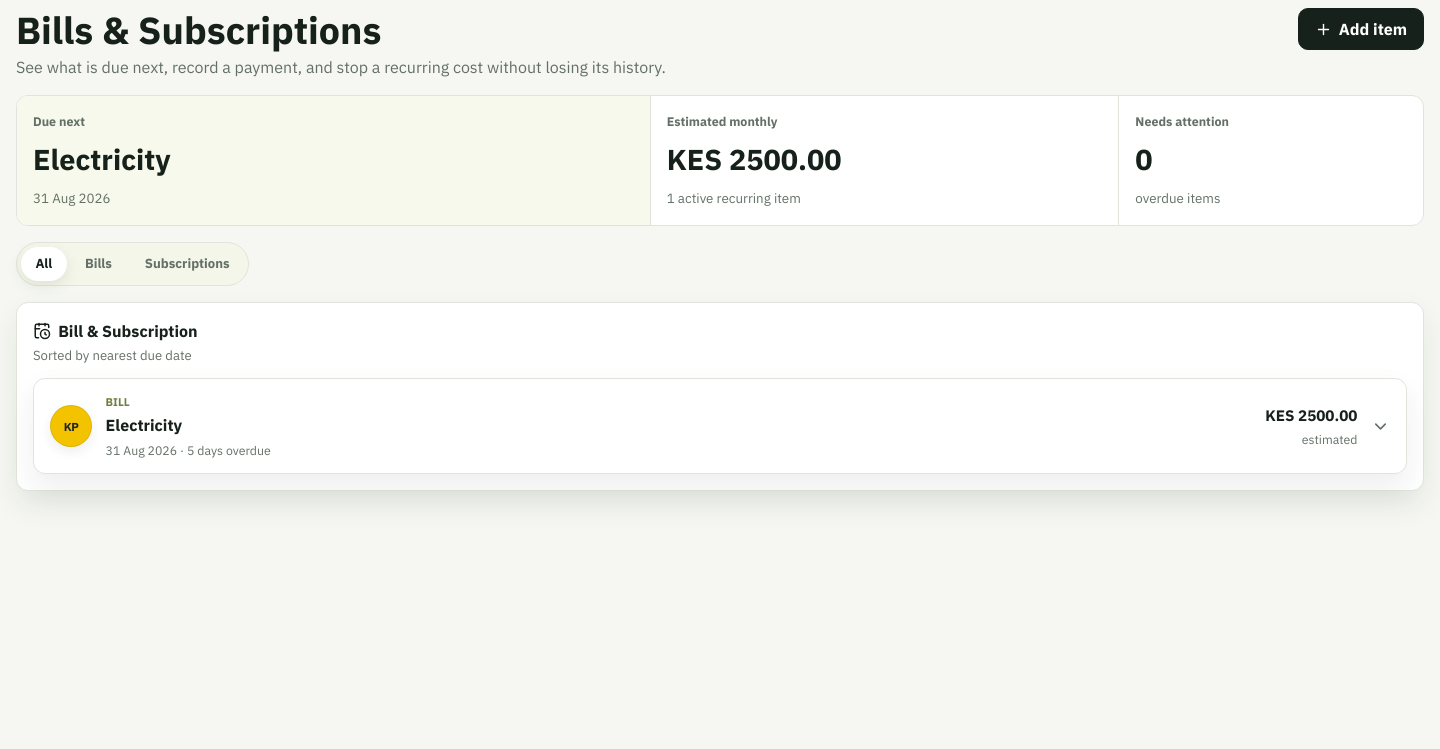
Test: Bills and subscriptions › stops recurrence without deleting the card
Click the button "bill Electricity 31 Aug 2026" at (71, 426), box [34,379,1406,473]
(page scrolled)
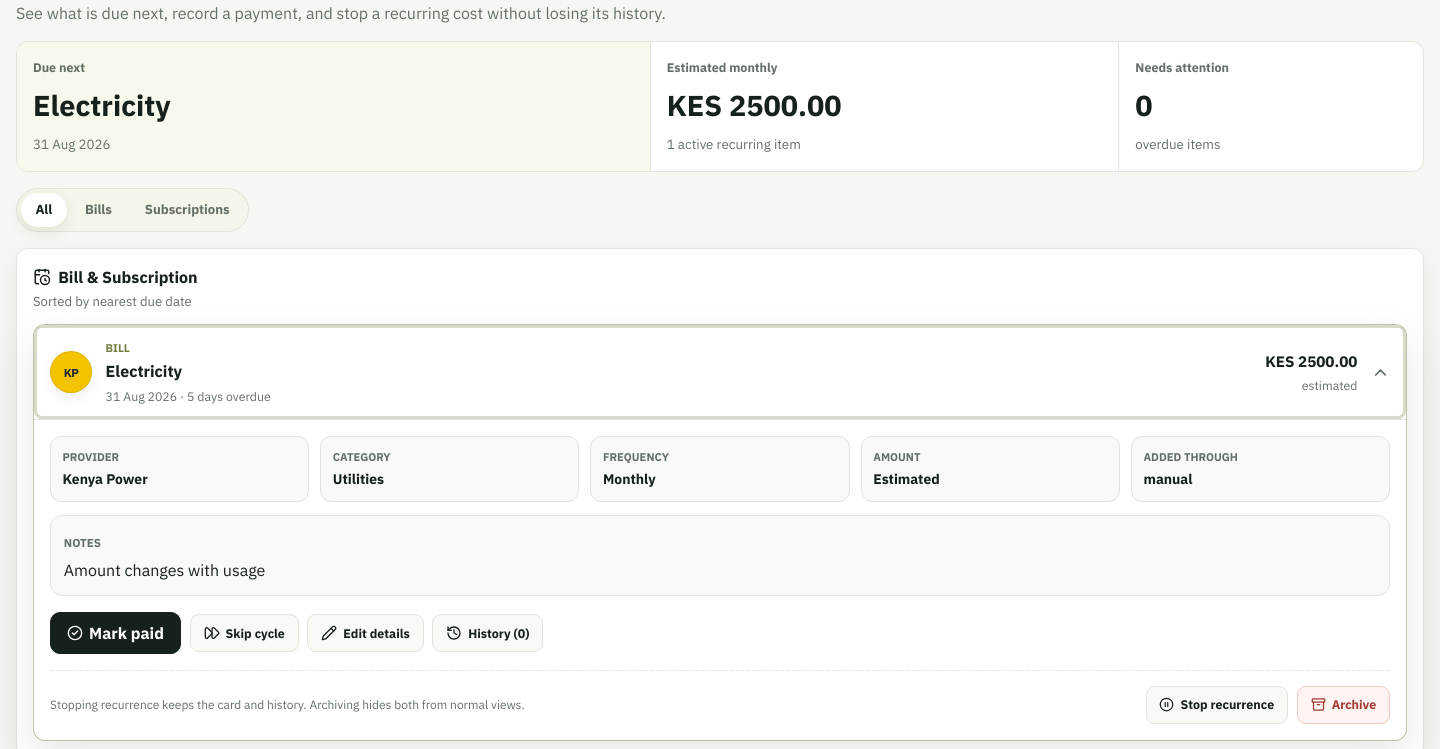
Click the button "Stop recurrence" at (1217, 705), box [1146,686,1288,724]
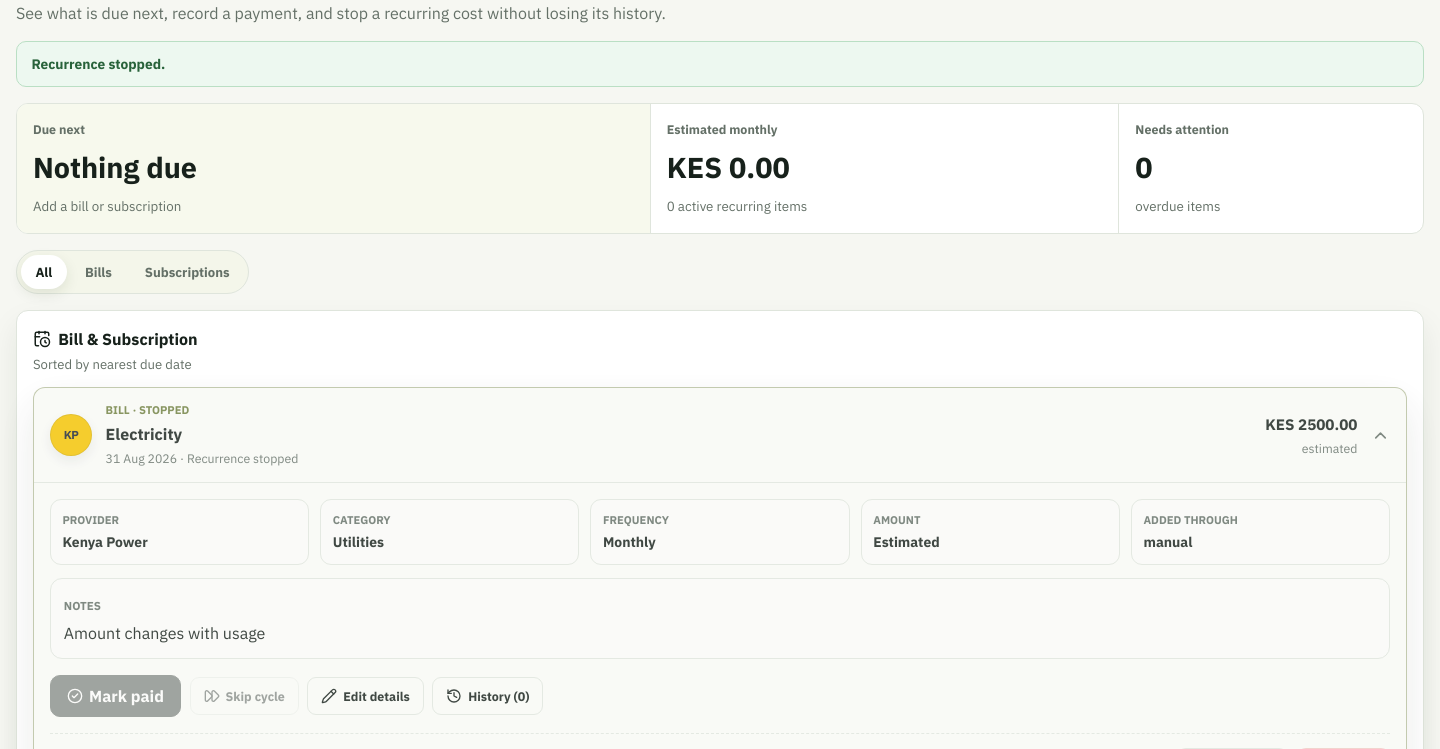
Expected: the heading "Electricity" is shown, [106,424,182,444]
Expected: the text "Recurrence stopped." is shown, [16,41,1424,87]
